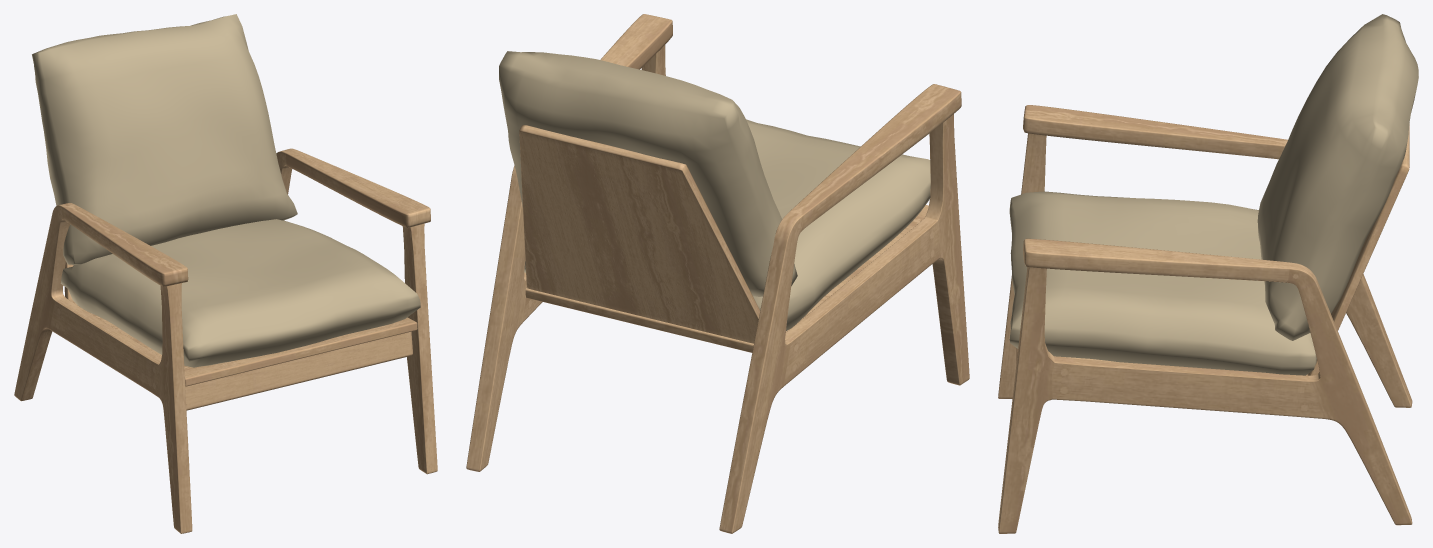
Rendered from natural-oak.glb.
3 renders of one model, left to right at view 1: azimuth 30°, elevation 25°; view 2: azimuth 150°, elevation 25°; view 3: azimuth 270°, elevation 25°, orthographic. The views are drawn at different scales.
Visible parts, largest first — view 1: krosna; view 2: krosna; view 3: krosna.
Part boxes in pixels (x1=…): krosna: x1=14, y1=14, x2=437, y2=533; krosna: x1=466, y1=14, x2=969, y2=533; krosna: x1=998, y1=14, x2=1418, y2=533.
Size of the model in its own units: 0.8203 by 1.02 by 0.9866.
Materials: 2 (1 with a texture image).
